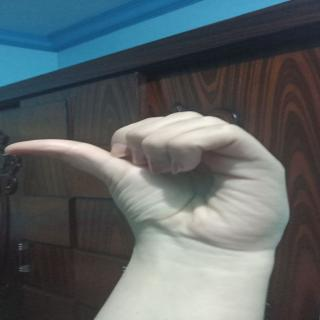WAW: (0, 108, 320, 257)
